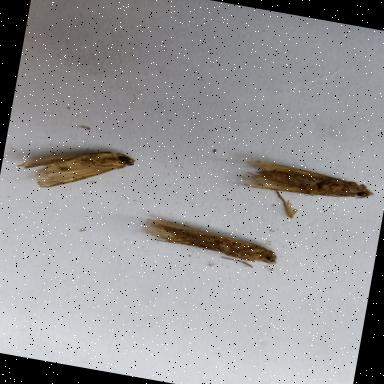pbw: (10, 134, 141, 206), (230, 156, 376, 211), (137, 214, 283, 268)
